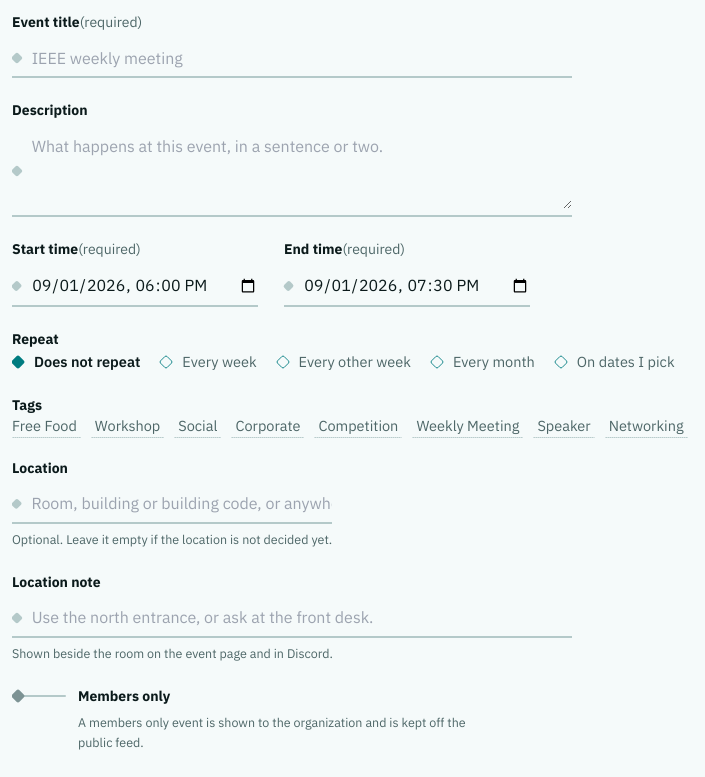
Test: EventForm repeat controls › reads every other week as a fortnight
Click the button "Every other week". click: [344, 362]
box: [276,351,411,373]
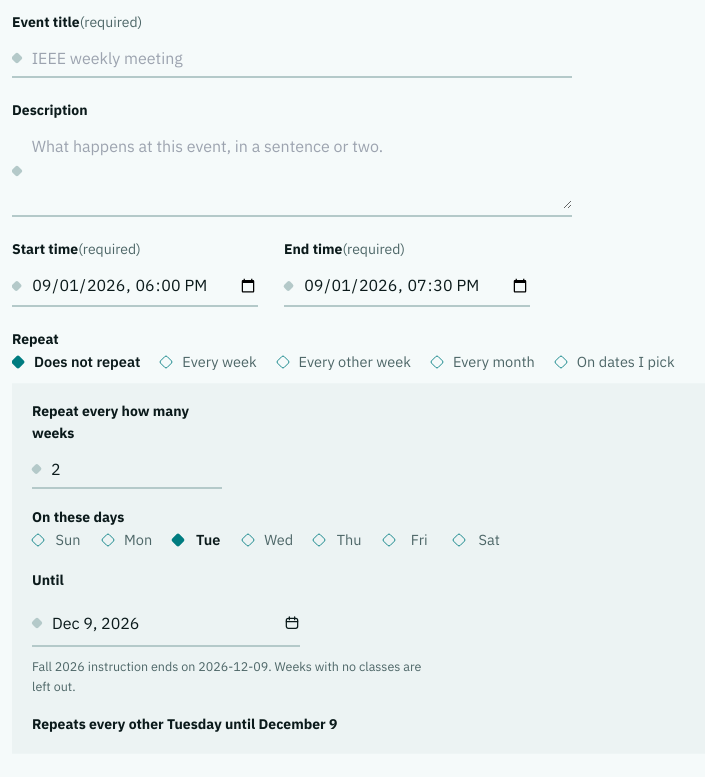
Result: the text "Repeats every other Tuesday until December 9" is shown at [32,715,337,733]
